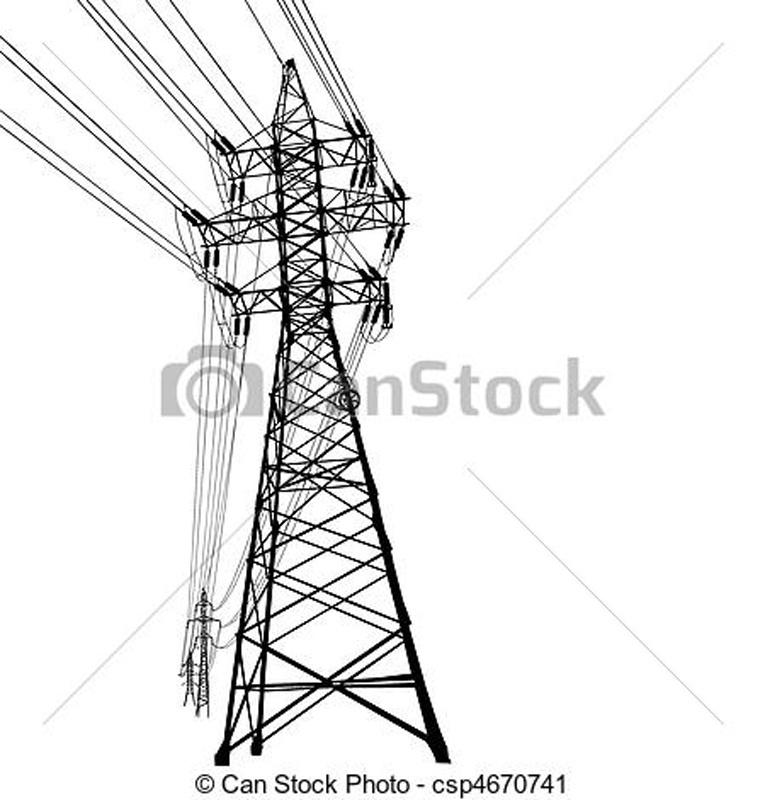power_tower: (166, 46, 463, 766)
